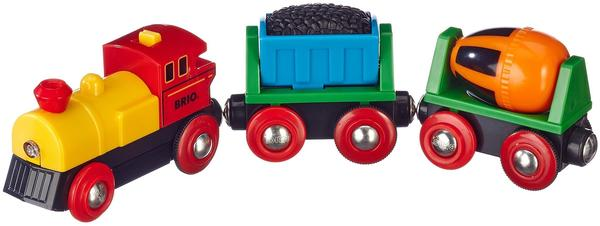brio: (4, 21, 223, 220)
